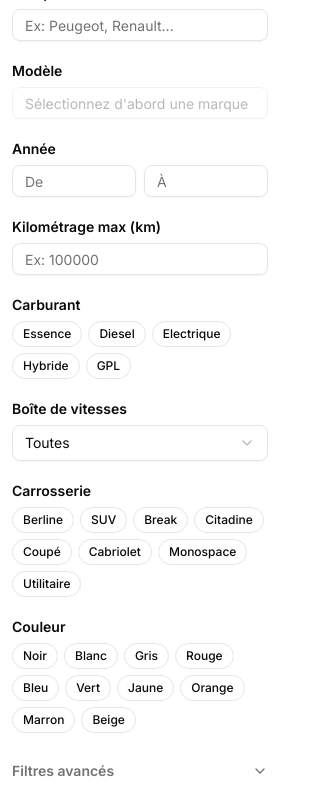
Test: SearchFilters › should expand advanced filters on toggle click
(page scrolled)
Click the button with test id "advanced-filters-toggle" at (140, 771), box [12, 753, 268, 788]
(page scrolled)
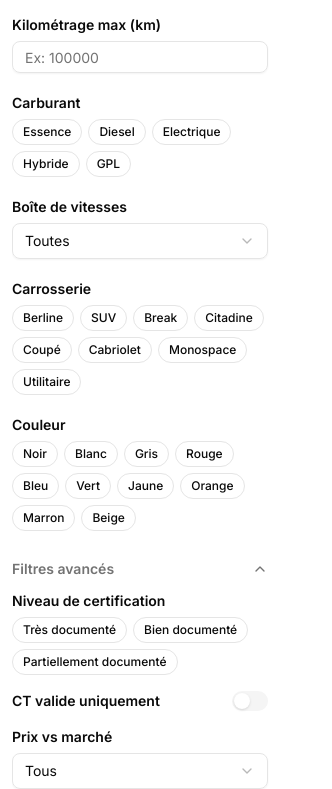
Now the element with test id "advanced-filters-content" is shown, box [12, 587, 268, 788]
